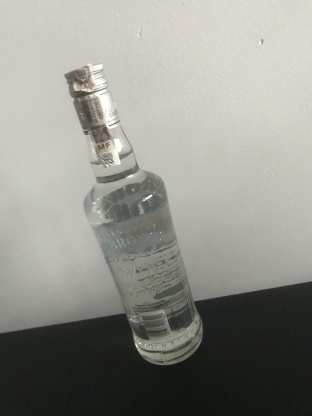nakretka: (62, 60, 121, 137)
